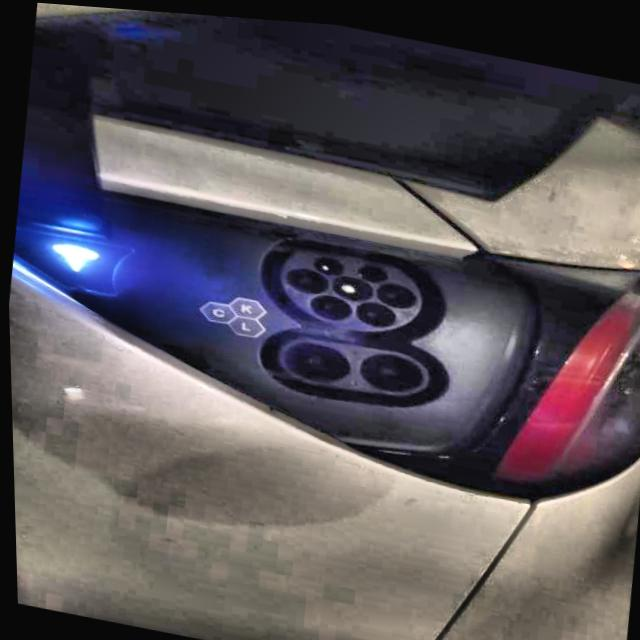inlet: (279, 244, 419, 326)
inlet-above-left: (311, 252, 342, 270)
inlet-above-right: (356, 259, 387, 277)
inlet-below-left: (307, 290, 350, 315)
inlet-below-right: (353, 296, 394, 321)
inlet-center: (330, 270, 371, 295)
inlet-center-left: (284, 264, 326, 289)
inlet-center-right: (373, 277, 414, 302)
